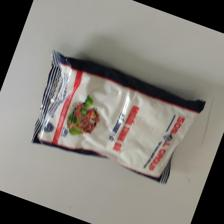Salt: (25, 50, 207, 185)
